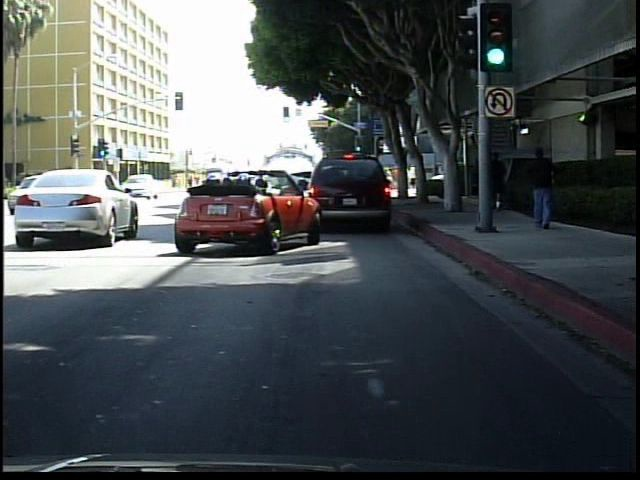person: (525, 140, 558, 232), (490, 148, 510, 214)
